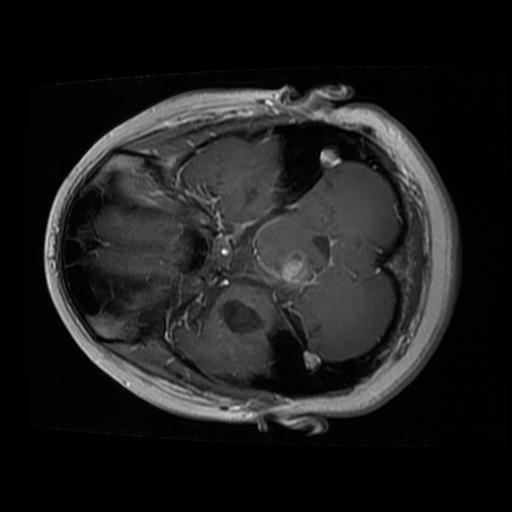glioma: (265, 246, 318, 294)
